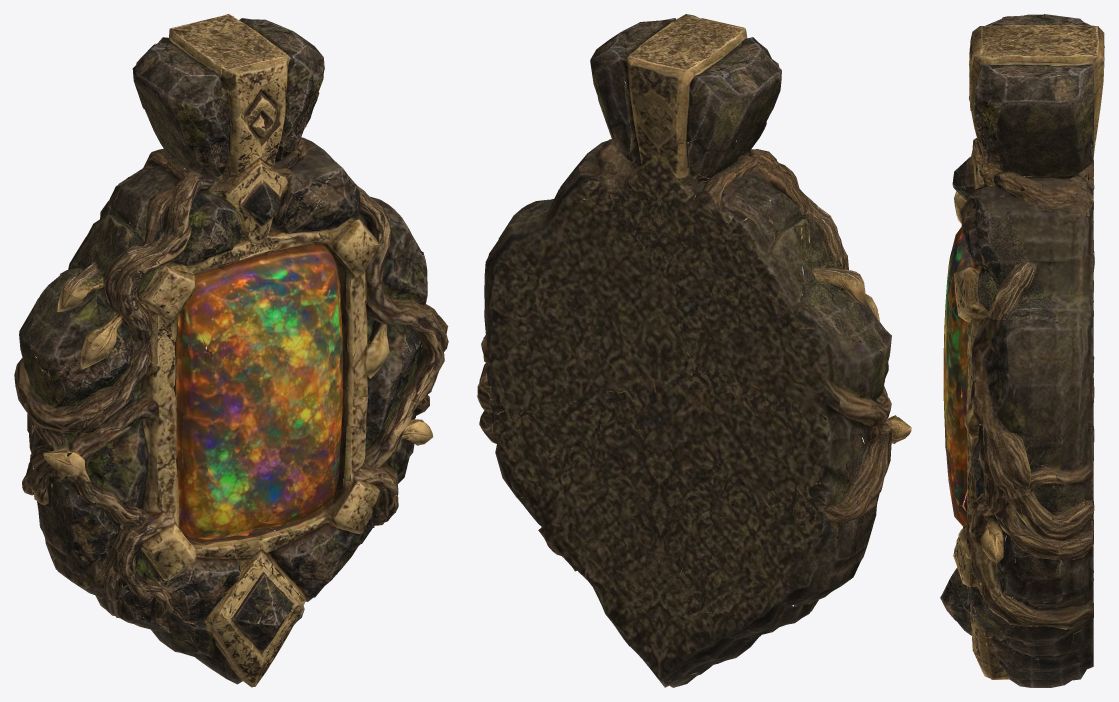
File: talisman-earth.glb
The picture shows the model from 3 angles, left to right: view 1: azimuth 30°, elevation 25°; view 2: azimuth 150°, elevation 25°; view 3: azimuth 270°, elevation 25°; orthographic projection.
Parts seen in each view (by area): view 1: Mesh_0; view 2: Mesh_0; view 3: Mesh_0.
Part boxes in pixels (x1,y1,x2,y2): Mesh_0: (14, 14, 448, 687); Mesh_0: (477, 14, 911, 687); Mesh_0: (940, 14, 1104, 687).
Size of the model in its own units: 1.28 by 1.9 by 0.4376.
1 material, 1 textured.
